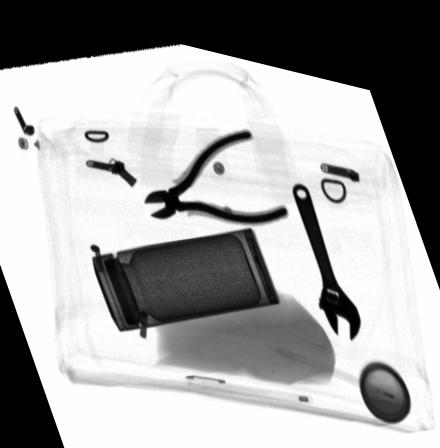Pliers: (144, 116, 291, 214)
Wrench: (291, 167, 362, 323)
